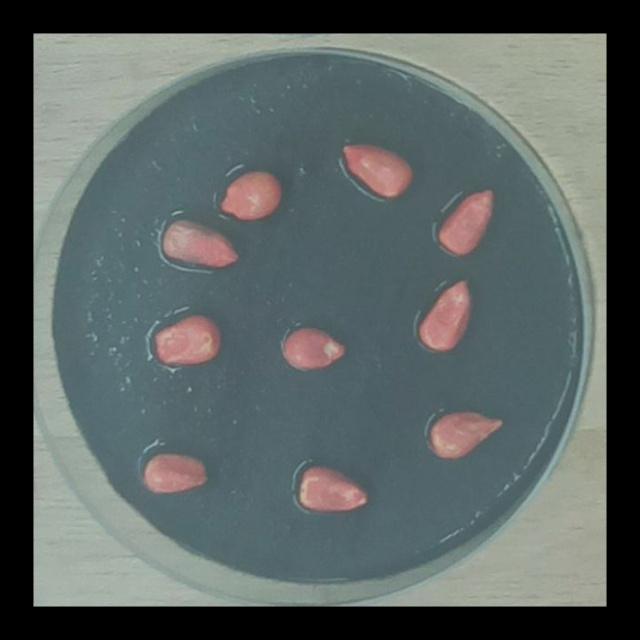Zea mays: (337, 138, 419, 205), (414, 274, 478, 357), (434, 181, 500, 260), (160, 214, 245, 275), (422, 403, 508, 463), (151, 306, 228, 371), (294, 460, 376, 516), (216, 164, 286, 225), (279, 321, 352, 376), (138, 446, 213, 499)
